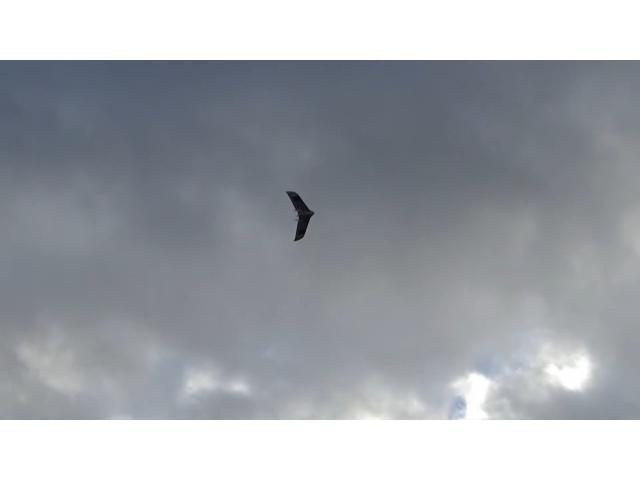Anti-Drone: (284, 190, 316, 242)
